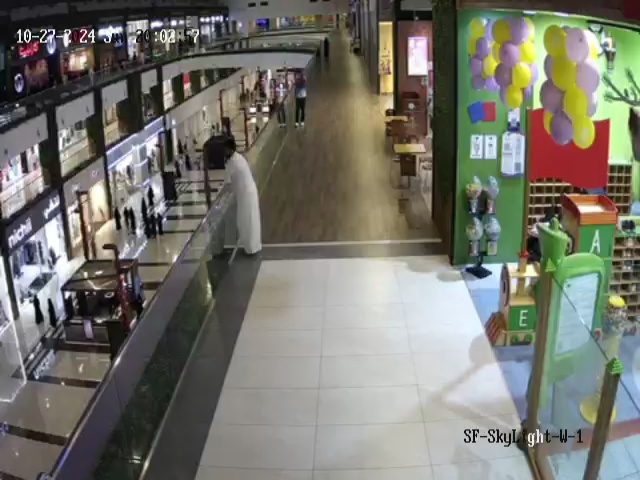female: (294, 72, 307, 126)
male: (223, 137, 263, 256)
